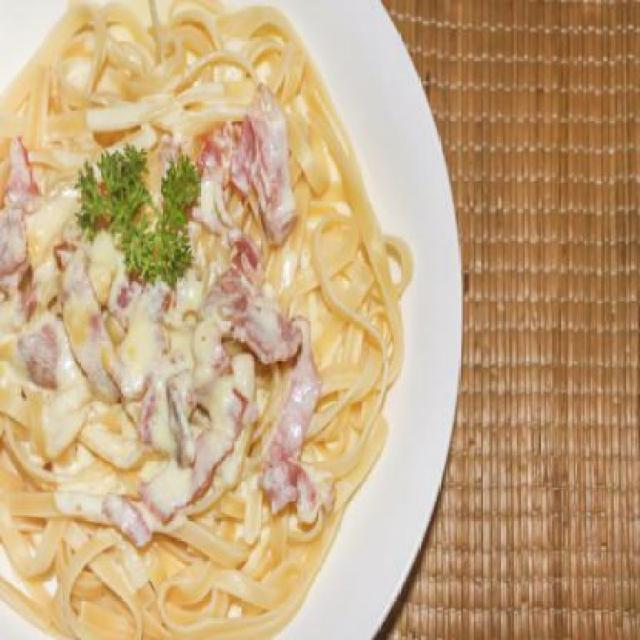Pasta with carbonara sauce: (11, 23, 456, 605)
